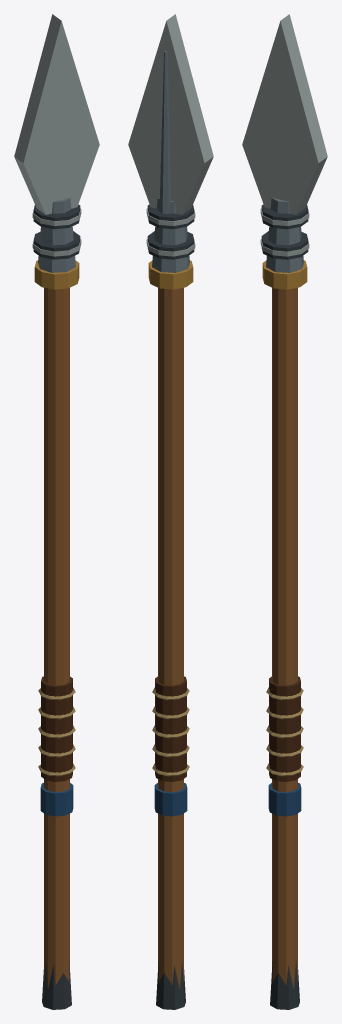
File: Spear.glb
3 views of the same model, side by side, from view 1: azimuth 30°, elevation 25°; view 2: azimuth 150°, elevation 25°; view 3: azimuth 330°, elevation 25° (orthographic).
Parts seen in each view (by area): view 1: Sculpture; view 2: Sculpture; view 3: Sculpture.
Boxes of the visible parts, x1,y1,x2,y2 form: Sculpture: (14,14,99,1009); Sculpture: (128,14,213,1009); Sculpture: (242,14,327,1009).
Bounding box in the file's own units: 0.21 × 2.59 × 0.118.
